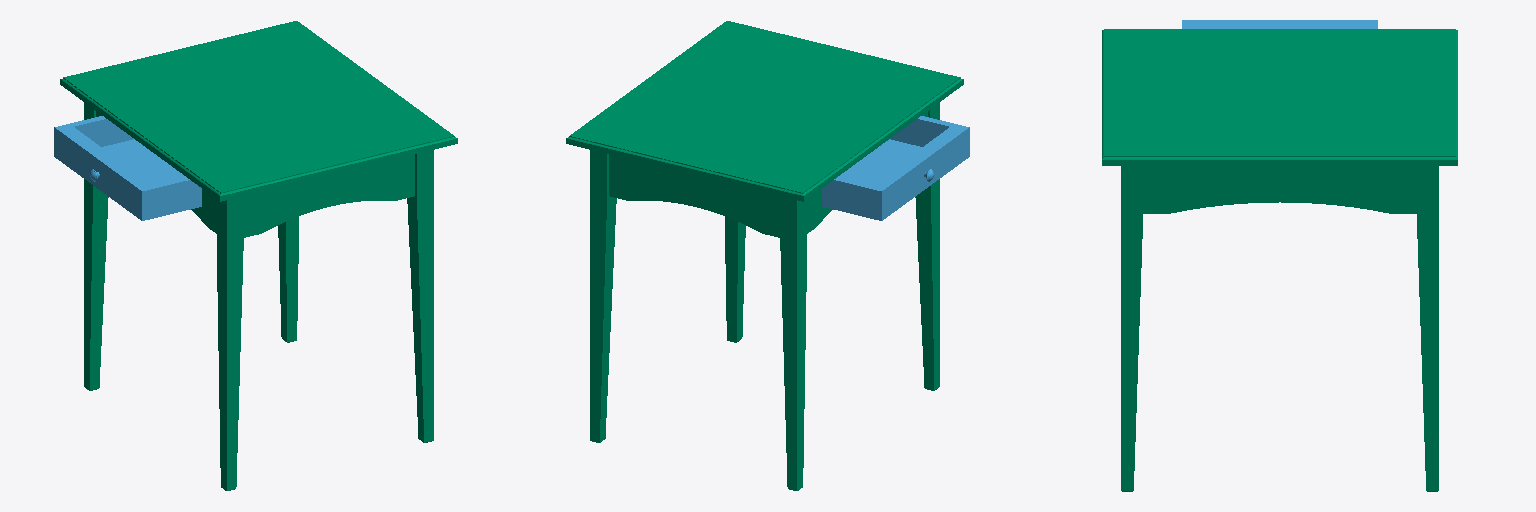
URDF robot description (partnet_c9857deb88989a67b5851007eadc6f74):
<?xml version='1.0' encoding='utf-8'?>
<robot name="partnet_c9857deb88989a67b5851007eadc6f74">
	<link name="base" />
	<link name="link_0">
		<visual name="drawer_front-17">
			<origin xyz="0 0 0" />
			<geometry>
				<mesh filename="textured_objs/original-12.obj" />
			</geometry>
		</visual>
		<visual name="drawer_front-17">
			<origin xyz="0 0 0" />
			<geometry>
				<mesh filename="textured_objs/original-5.obj" />
			</geometry>
		</visual>
		<visual name="drawer_front-17">
			<origin xyz="0 0 0" />
			<geometry>
				<mesh filename="textured_objs/original-10.obj" />
			</geometry>
		</visual>
		<visual name="drawer_front-17">
			<origin xyz="0 0 0" />
			<geometry>
				<mesh filename="textured_objs/original-11.obj" />
			</geometry>
		</visual>
		<visual name="drawer_front-17">
			<origin xyz="0 0 0" />
			<geometry>
				<mesh filename="textured_objs/original-9.obj" />
			</geometry>
		</visual>
		<visual name="drawer_front-17">
			<origin xyz="0 0 0" />
			<geometry>
				<mesh filename="textured_objs/original-8.obj" />
			</geometry>
		</visual>
		<visual name="drawer_side-18">
			<origin xyz="0 0 0" />
			<geometry>
				<mesh filename="textured_objs/original-2.obj" />
			</geometry>
		</visual>
		<visual name="drawer_side-19">
			<origin xyz="0 0 0" />
			<geometry>
				<mesh filename="textured_objs/original-6.obj" />
			</geometry>
		</visual>
		<visual name="drawer_back-20">
			<origin xyz="0 0 0" />
			<geometry>
				<mesh filename="textured_objs/original-15.obj" />
			</geometry>
		</visual>
		<visual name="drawer_back-20">
			<origin xyz="0 0 0" />
			<geometry>
				<mesh filename="textured_objs/original-14.obj" />
			</geometry>
		</visual>
		<visual name="drawer_back-20">
			<origin xyz="0 0 0" />
			<geometry>
				<mesh filename="textured_objs/original-16.obj" />
			</geometry>
		</visual>
		<visual name="drawer_back-20">
			<origin xyz="0 0 0" />
			<geometry>
				<mesh filename="textured_objs/original-17.obj" />
			</geometry>
		</visual>
		<visual name="drawer_back-20">
			<origin xyz="0 0 0" />
			<geometry>
				<mesh filename="textured_objs/original-18.obj" />
			</geometry>
		</visual>
		<visual name="drawer_bottom-21">
			<origin xyz="0 0 0" />
			<geometry>
				<mesh filename="textured_objs/original-4.obj" />
			</geometry>
		</visual>
		<visual name="handle-16">
			<origin xyz="0 0 0" />
			<geometry>
				<mesh filename="textured_objs/original-3.obj" />
			</geometry>
		</visual>
		<collision>
			<origin xyz="0 0 0" />
			<geometry>
				<mesh filename="textured_objs/original-12.obj" />
			</geometry>
		</collision>
		<collision>
			<origin xyz="0 0 0" />
			<geometry>
				<mesh filename="textured_objs/original-5.obj" />
			</geometry>
		</collision>
		<collision>
			<origin xyz="0 0 0" />
			<geometry>
				<mesh filename="textured_objs/original-10.obj" />
			</geometry>
		</collision>
		<collision>
			<origin xyz="0 0 0" />
			<geometry>
				<mesh filename="textured_objs/original-11.obj" />
			</geometry>
		</collision>
		<collision>
			<origin xyz="0 0 0" />
			<geometry>
				<mesh filename="textured_objs/original-9.obj" />
			</geometry>
		</collision>
		<collision>
			<origin xyz="0 0 0" />
			<geometry>
				<mesh filename="textured_objs/original-8.obj" />
			</geometry>
		</collision>
		<collision>
			<origin xyz="0 0 0" />
			<geometry>
				<mesh filename="textured_objs/original-2.obj" />
			</geometry>
		</collision>
		<collision>
			<origin xyz="0 0 0" />
			<geometry>
				<mesh filename="textured_objs/original-6.obj" />
			</geometry>
		</collision>
		<collision>
			<origin xyz="0 0 0" />
			<geometry>
				<mesh filename="textured_objs/original-15.obj" />
			</geometry>
		</collision>
		<collision>
			<origin xyz="0 0 0" />
			<geometry>
				<mesh filename="textured_objs/original-14.obj" />
			</geometry>
		</collision>
		<collision>
			<origin xyz="0 0 0" />
			<geometry>
				<mesh filename="textured_objs/original-16.obj" />
			</geometry>
		</collision>
		<collision>
			<origin xyz="0 0 0" />
			<geometry>
				<mesh filename="textured_objs/original-17.obj" />
			</geometry>
		</collision>
		<collision>
			<origin xyz="0 0 0" />
			<geometry>
				<mesh filename="textured_objs/original-18.obj" />
			</geometry>
		</collision>
		<collision>
			<origin xyz="0 0 0" />
			<geometry>
				<mesh filename="textured_objs/original-4.obj" />
			</geometry>
		</collision>
		<collision>
			<origin xyz="0 0 0" />
			<geometry>
				<mesh filename="textured_objs/original-3.obj" />
			</geometry>
		</collision>
	</link>
	<joint name="joint_0" type="prismatic">
		<origin xyz="0 0 0" />
		<axis xyz="0 0 1" />
		<child link="link_0" />
		<parent link="link_1" />
		<limit lower="-0.17599999999999993" upper="0.4119999999999999" />
	</joint>
	<link name="link_1">
		<visual name="board-23">
			<origin xyz="0 0 0" />
			<geometry>
				<mesh filename="textured_objs/original-19.obj" />
			</geometry>
		</visual>
		<visual name="back_panel-5">
			<origin xyz="0 0 0" />
			<geometry>
				<mesh filename="textured_objs/original-57.obj" />
			</geometry>
		</visual>
		<visual name="back_panel-5">
			<origin xyz="0 0 0" />
			<geometry>
				<mesh filename="textured_objs/original-53.obj" />
			</geometry>
		</visual>
		<visual name="back_panel-5">
			<origin xyz="0 0 0" />
			<geometry>
				<mesh filename="textured_objs/original-51.obj" />
			</geometry>
		</visual>
		<visual name="back_panel-5">
			<origin xyz="0 0 0" />
			<geometry>
				<mesh filename="textured_objs/original-52.obj" />
			</geometry>
		</visual>
		<visual name="back_panel-5">
			<origin xyz="0 0 0" />
			<geometry>
				<mesh filename="textured_objs/original-54.obj" />
			</geometry>
		</visual>
		<visual name="back_panel-5">
			<origin xyz="0 0 0" />
			<geometry>
				<mesh filename="textured_objs/original-56.obj" />
			</geometry>
		</visual>
		<visual name="vertical_side_panel-6">
			<origin xyz="0 0 0" />
			<geometry>
				<mesh filename="textured_objs/original-38.obj" />
			</geometry>
		</visual>
		<visual name="vertical_side_panel-6">
			<origin xyz="0 0 0" />
			<geometry>
				<mesh filename="textured_objs/original-35.obj" />
			</geometry>
		</visual>
		<visual name="vertical_side_panel-6">
			<origin xyz="0 0 0" />
			<geometry>
				<mesh filename="textured_objs/original-36.obj" />
			</geometry>
		</visual>
		<visual name="vertical_side_panel-6">
			<origin xyz="0 0 0" />
			<geometry>
				<mesh filename="textured_objs/original-33.obj" />
			</geometry>
		</visual>
		<visual name="vertical_side_panel-6">
			<origin xyz="0 0 0" />
			<geometry>
				<mesh filename="textured_objs/original-34.obj" />
			</geometry>
		</visual>
		<visual name="vertical_side_panel-6">
			<origin xyz="0 0 0" />
			<geometry>
				<mesh filename="textured_objs/original-37.obj" />
			</geometry>
		</visual>
		<visual name="vertical_side_panel-6">
			<origin xyz="0 0 0" />
			<geometry>
				<mesh filename="textured_objs/original-39.obj" />
			</geometry>
		</visual>
		<visual name="vertical_side_panel-7">
			<origin xyz="0 0 0" />
			<geometry>
				<mesh filename="textured_objs/original-31.obj" />
			</geometry>
		</visual>
		<visual name="vertical_side_panel-7">
			<origin xyz="0 0 0" />
			<geometry>
				<mesh filename="textured_objs/original-30.obj" />
			</geometry>
		</visual>
		<visual name="vertical_side_panel-7">
			<origin xyz="0 0 0" />
			<geometry>
				<mesh filename="textured_objs/original-28.obj" />
			</geometry>
		</visual>
		<visual name="vertical_side_panel-7">
			<origin xyz="0 0 0" />
			<geometry>
				<mesh filename="textured_objs/original-27.obj" />
			</geometry>
		</visual>
		<visual name="vertical_side_panel-7">
			<origin xyz="0 0 0" />
			<geometry>
				<mesh filename="textured_objs/original-25.obj" />
			</geometry>
		</visual>
		<visual name="vertical_side_panel-7">
			<origin xyz="0 0 0" />
			<geometry>
				<mesh filename="textured_objs/original-26.obj" />
			</geometry>
		</visual>
		<visual name="vertical_side_panel-7">
			<origin xyz="0 0 0" />
			<geometry>
				<mesh filename="textured_objs/original-29.obj" />
			</geometry>
		</visual>
		<visual name="vertical_front_panel-8">
			<origin xyz="0 0 0" />
			<geometry>
				<mesh filename="textured_objs/original-59.obj" />
			</geometry>
		</visual>
		<visual name="vertical_front_panel-8">
			<origin xyz="0 0 0" />
			<geometry>
				<mesh filename="textured_objs/original-60.obj" />
			</geometry>
		</visual>
		<visual name="vertical_front_panel-8">
			<origin xyz="0 0 0" />
			<geometry>
				<mesh filename="textured_objs/original-61.obj" />
			</geometry>
		</visual>
		<visual name="vertical_front_panel-8">
			<origin xyz="0 0 0" />
			<geometry>
				<mesh filename="textured_objs/original-64.obj" />
			</geometry>
		</visual>
		<visual name="vertical_front_panel-8">
			<origin xyz="0 0 0" />
			<geometry>
				<mesh filename="textured_objs/original-62.obj" />
			</geometry>
		</visual>
		<visual name="vertical_front_panel-8">
			<origin xyz="0 0 0" />
			<geometry>
				<mesh filename="textured_objs/original-63.obj" />
			</geometry>
		</visual>
		<visual name="vertical_front_panel-8">
			<origin xyz="0 0 0" />
			<geometry>
				<mesh filename="textured_objs/original-65.obj" />
			</geometry>
		</visual>
		<visual name="leg-9">
			<origin xyz="0 0 0" />
			<geometry>
				<mesh filename="textured_objs/original-20.obj" />
			</geometry>
		</visual>
		<visual name="leg-10">
			<origin xyz="0 0 0" />
			<geometry>
				<mesh filename="textured_objs/original-23.obj" />
			</geometry>
		</visual>
		<visual name="leg-11">
			<origin xyz="0 0 0" />
			<geometry>
				<mesh filename="textured_objs/original-22.obj" />
			</geometry>
		</visual>
		<visual name="leg-12">
			<origin xyz="0 0 0" />
			<geometry>
				<mesh filename="textured_objs/original-21.obj" />
			</geometry>
		</visual>
		<visual name="bar_stretcher-13">
			<origin xyz="0 0 0" />
			<geometry>
				<mesh filename="textured_objs/original-47.obj" />
			</geometry>
		</visual>
		<visual name="bar_stretcher-13">
			<origin xyz="0 0 0" />
			<geometry>
				<mesh filename="textured_objs/original-48.obj" />
			</geometry>
		</visual>
		<visual name="bar_stretcher-13">
			<origin xyz="0 0 0" />
			<geometry>
				<mesh filename="textured_objs/original-45.obj" />
			</geometry>
		</visual>
		<visual name="bar_stretcher-13">
			<origin xyz="0 0 0" />
			<geometry>
				<mesh filename="textured_objs/original-46.obj" />
			</geometry>
		</visual>
		<visual name="bar_stretcher-14">
			<origin xyz="0 0 0" />
			<geometry>
				<mesh filename="textured_objs/original-49.obj" />
			</geometry>
		</visual>
		<visual name="bar_stretcher-14">
			<origin xyz="0 0 0" />
			<geometry>
				<mesh filename="textured_objs/original-43.obj" />
			</geometry>
		</visual>
		<visual name="bar_stretcher-14">
			<origin xyz="0 0 0" />
			<geometry>
				<mesh filename="textured_objs/original-42.obj" />
			</geometry>
		</visual>
		<visual name="bar_stretcher-14">
			<origin xyz="0 0 0" />
			<geometry>
				<mesh filename="textured_objs/original-41.obj" />
			</geometry>
		</visual>
		<collision>
			<origin xyz="0 0 0" />
			<geometry>
				<mesh filename="textured_objs/original-19.obj" />
			</geometry>
		</collision>
		<collision>
			<origin xyz="0 0 0" />
			<geometry>
				<mesh filename="textured_objs/original-57.obj" />
			</geometry>
		</collision>
		<collision>
			<origin xyz="0 0 0" />
			<geometry>
				<mesh filename="textured_objs/original-53.obj" />
			</geometry>
		</collision>
		<collision>
			<origin xyz="0 0 0" />
			<geometry>
				<mesh filename="textured_objs/original-51.obj" />
			</geometry>
		</collision>
		<collision>
			<origin xyz="0 0 0" />
			<geometry>
				<mesh filename="textured_objs/original-52.obj" />
			</geometry>
		</collision>
		<collision>
			<origin xyz="0 0 0" />
			<geometry>
				<mesh filename="textured_objs/original-54.obj" />
			</geometry>
		</collision>
		<collision>
			<origin xyz="0 0 0" />
			<geometry>
				<mesh filename="textured_objs/original-56.obj" />
			</geometry>
		</collision>
		<collision>
			<origin xyz="0 0 0" />
			<geometry>
				<mesh filename="textured_objs/original-38.obj" />
			</geometry>
		</collision>
		<collision>
			<origin xyz="0 0 0" />
			<geometry>
				<mesh filename="textured_objs/original-35.obj" />
			</geometry>
		</collision>
		<collision>
			<origin xyz="0 0 0" />
			<geometry>
				<mesh filename="textured_objs/original-36.obj" />
			</geometry>
		</collision>
		<collision>
			<origin xyz="0 0 0" />
			<geometry>
				<mesh filename="textured_objs/original-33.obj" />
			</geometry>
		</collision>
		<collision>
			<origin xyz="0 0 0" />
			<geometry>
				<mesh filename="textured_objs/original-34.obj" />
			</geometry>
		</collision>
		<collision>
			<origin xyz="0 0 0" />
			<geometry>
				<mesh filename="textured_objs/original-37.obj" />
			</geometry>
		</collision>
		<collision>
			<origin xyz="0 0 0" />
			<geometry>
				<mesh filename="textured_objs/original-39.obj" />
			</geometry>
		</collision>
		<collision>
			<origin xyz="0 0 0" />
			<geometry>
				<mesh filename="textured_objs/original-31.obj" />
			</geometry>
		</collision>
		<collision>
			<origin xyz="0 0 0" />
			<geometry>
				<mesh filename="textured_objs/original-30.obj" />
			</geometry>
		</collision>
		<collision>
			<origin xyz="0 0 0" />
			<geometry>
				<mesh filename="textured_objs/original-28.obj" />
			</geometry>
		</collision>
		<collision>
			<origin xyz="0 0 0" />
			<geometry>
				<mesh filename="textured_objs/original-27.obj" />
			</geometry>
		</collision>
		<collision>
			<origin xyz="0 0 0" />
			<geometry>
				<mesh filename="textured_objs/original-25.obj" />
			</geometry>
		</collision>
		<collision>
			<origin xyz="0 0 0" />
			<geometry>
				<mesh filename="textured_objs/original-26.obj" />
			</geometry>
		</collision>
		<collision>
			<origin xyz="0 0 0" />
			<geometry>
				<mesh filename="textured_objs/original-29.obj" />
			</geometry>
		</collision>
		<collision>
			<origin xyz="0 0 0" />
			<geometry>
				<mesh filename="textured_objs/original-59.obj" />
			</geometry>
		</collision>
		<collision>
			<origin xyz="0 0 0" />
			<geometry>
				<mesh filename="textured_objs/original-60.obj" />
			</geometry>
		</collision>
		<collision>
			<origin xyz="0 0 0" />
			<geometry>
				<mesh filename="textured_objs/original-61.obj" />
			</geometry>
		</collision>
		<collision>
			<origin xyz="0 0 0" />
			<geometry>
				<mesh filename="textured_objs/original-64.obj" />
			</geometry>
		</collision>
		<collision>
			<origin xyz="0 0 0" />
			<geometry>
				<mesh filename="textured_objs/original-62.obj" />
			</geometry>
		</collision>
		<collision>
			<origin xyz="0 0 0" />
			<geometry>
				<mesh filename="textured_objs/original-63.obj" />
			</geometry>
		</collision>
		<collision>
			<origin xyz="0 0 0" />
			<geometry>
				<mesh filename="textured_objs/original-65.obj" />
			</geometry>
		</collision>
		<collision>
			<origin xyz="0 0 0" />
			<geometry>
				<mesh filename="textured_objs/original-20.obj" />
			</geometry>
		</collision>
		<collision>
			<origin xyz="0 0 0" />
			<geometry>
				<mesh filename="textured_objs/original-23.obj" />
			</geometry>
		</collision>
		<collision>
			<origin xyz="0 0 0" />
			<geometry>
				<mesh filename="textured_objs/original-22.obj" />
			</geometry>
		</collision>
		<collision>
			<origin xyz="0 0 0" />
			<geometry>
				<mesh filename="textured_objs/original-21.obj" />
			</geometry>
		</collision>
		<collision>
			<origin xyz="0 0 0" />
			<geometry>
				<mesh filename="textured_objs/original-47.obj" />
			</geometry>
		</collision>
		<collision>
			<origin xyz="0 0 0" />
			<geometry>
				<mesh filename="textured_objs/original-48.obj" />
			</geometry>
		</collision>
		<collision>
			<origin xyz="0 0 0" />
			<geometry>
				<mesh filename="textured_objs/original-45.obj" />
			</geometry>
		</collision>
		<collision>
			<origin xyz="0 0 0" />
			<geometry>
				<mesh filename="textured_objs/original-46.obj" />
			</geometry>
		</collision>
		<collision>
			<origin xyz="0 0 0" />
			<geometry>
				<mesh filename="textured_objs/original-49.obj" />
			</geometry>
		</collision>
		<collision>
			<origin xyz="0 0 0" />
			<geometry>
				<mesh filename="textured_objs/original-43.obj" />
			</geometry>
		</collision>
		<collision>
			<origin xyz="0 0 0" />
			<geometry>
				<mesh filename="textured_objs/original-42.obj" />
			</geometry>
		</collision>
		<collision>
			<origin xyz="0 0 0" />
			<geometry>
				<mesh filename="textured_objs/original-41.obj" />
			</geometry>
		</collision>
	</link>
	<joint name="joint_1" type="fixed">
		<origin rpy="1.570796326794897 0 -1.570796326794897" xyz="0 0 0" />
		<child link="link_1" />
		<parent link="base" />
	</joint>
</robot>

--- Render facts (derived) ---
Views: 3 orthographic renders of the robot side by side, from view 1: azimuth 30°, elevation 25°; view 2: azimuth 150°, elevation 25°; view 3: azimuth 270°, elevation 25°.
Model partnet_c9857deb88989a67b5851007eadc6f74 with 3 links and 2 joints (1 prismatic, 1 fixed), rooted at base, posed all joints at 0.
Visible links, largest first — view 1: link_1, link_0; view 2: link_1, link_0; view 3: link_1, link_0.
Link boxes in pixels (box(x1,y1,x2,y2)): link_1: box(60, 21, 457, 490); link_0: box(54, 116, 201, 220); link_1: box(566, 21, 963, 490); link_0: box(822, 116, 969, 220); link_1: box(1102, 29, 1457, 491); link_0: box(1182, 20, 1377, 28).
Bounding box of the posed robot: 0.9915 × 0.9573 × 1.02 m (x, y, z).
Meshes: 55 distinct files referenced, 55 mesh visuals loaded (55 OBJ).